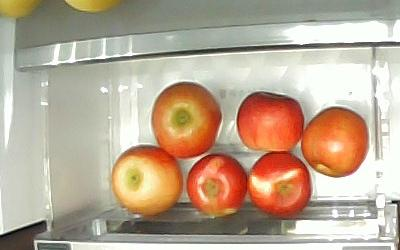apple: (149, 80, 222, 159), (110, 143, 184, 216), (300, 105, 369, 177), (246, 150, 312, 218), (235, 90, 304, 152), (185, 152, 247, 217)
